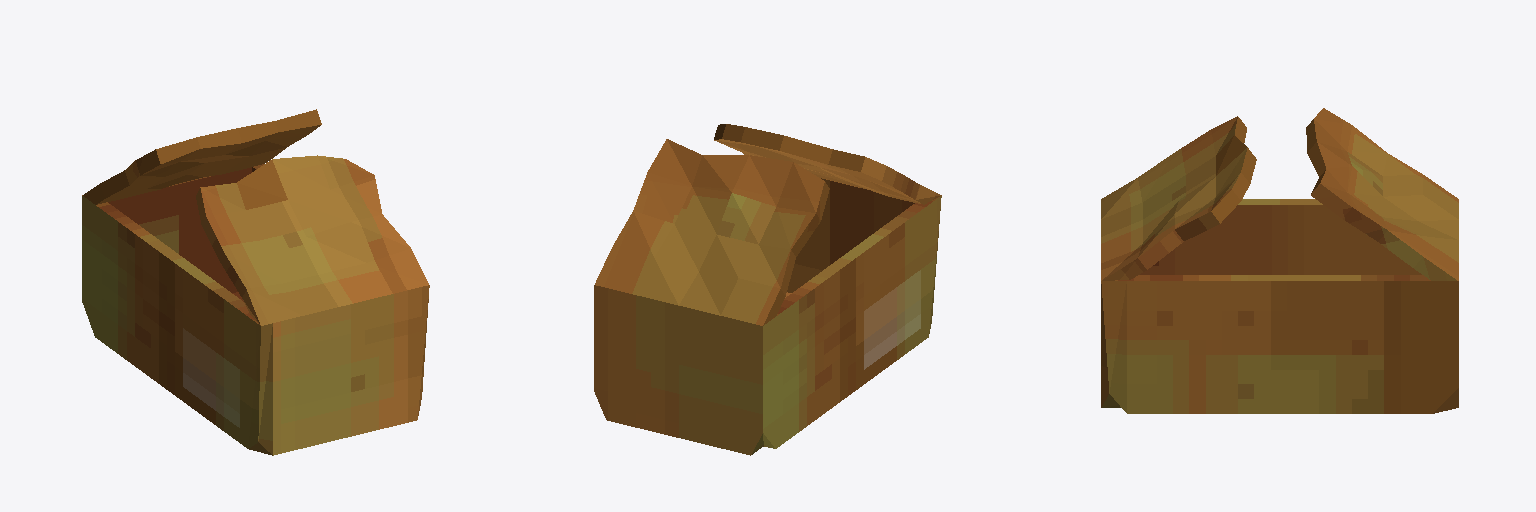
The picture shows the model from 3 angles: view 1: azimuth 30°, elevation 25°; view 2: azimuth 150°, elevation 25°; view 3: azimuth 270°, elevation 25°; orthographic projection.
Visible parts, largest first — view 1: cuboid; view 2: cuboid; view 3: cuboid.
Boxes of the visible parts, x1,y1,x2,y2 form: cuboid: [82, 109, 429, 455]; cuboid: [594, 124, 941, 455]; cuboid: [1101, 108, 1458, 413].
Size of the model in its own units: 0.75 by 0.9905 by 1.38.
1 materials, 1 textured.